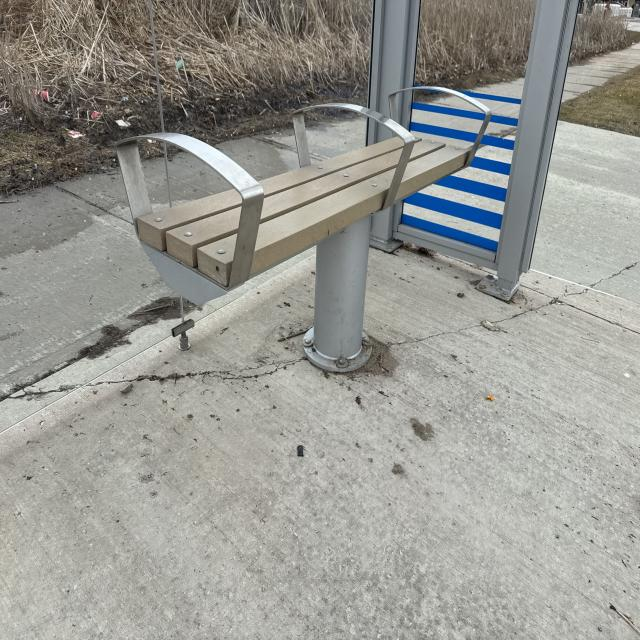Bench: (107, 85, 511, 367)
